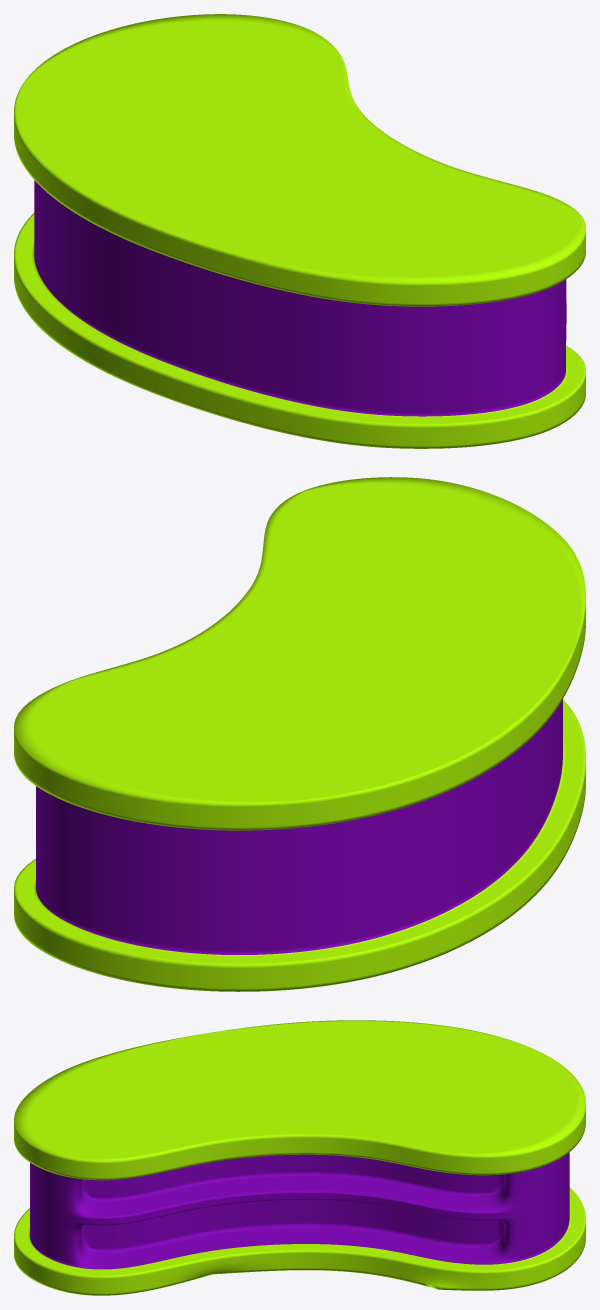
The model's file is pomo_shelf.glb.
The picture shows the model from 3 angles, top to bottom: view 1: azimuth 30°, elevation 25°; view 2: azimuth 150°, elevation 25°; view 3: azimuth 270°, elevation 25°; orthographic projection. The views are drawn at different scales.
Visible parts, largest first — view 1: Plane.019; view 2: Plane.019; view 3: Plane.019.
Part boxes in pixels (bbox=[...]): Plane.019: bbox=[14, 14, 585, 448]; Plane.019: bbox=[14, 477, 585, 991]; Plane.019: bbox=[14, 1020, 585, 1295].
Size of the model in its own units: 8.22 by 3.67 by 14.12.
Materials: 1 (1 with a texture image).
